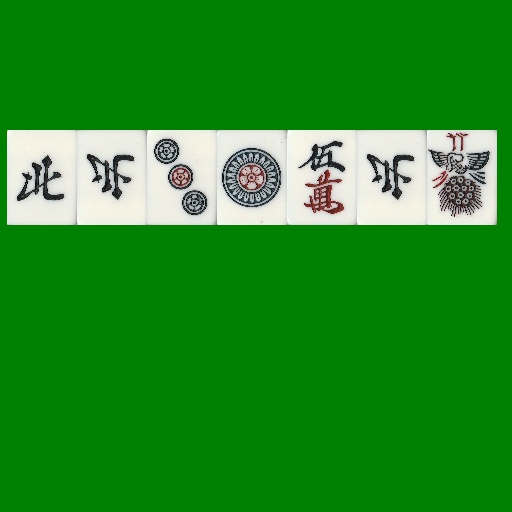1p: (217, 130, 287, 225)
1s: (427, 130, 497, 225)
3p: (147, 130, 217, 225)
5m: (287, 130, 357, 225)
north: (7, 130, 77, 225), (77, 130, 147, 225), (357, 130, 427, 225)
